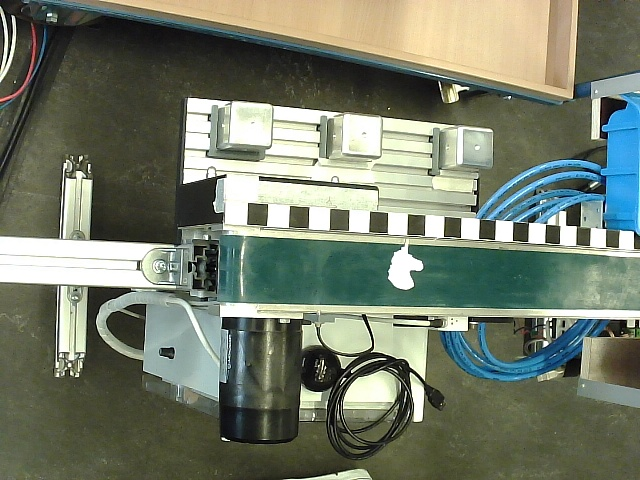unicorn: (387, 238, 424, 291)
